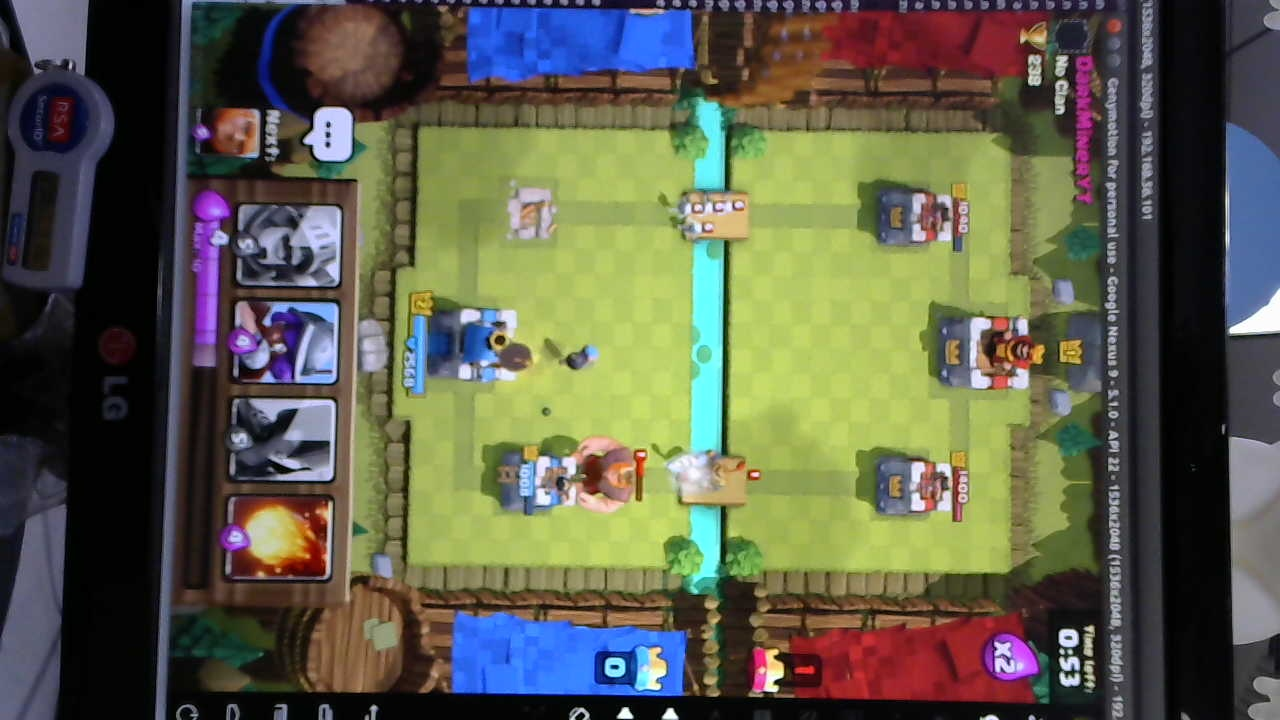arena: (497, 447, 583, 516)
bomb: (553, 337, 605, 377)
darena: (503, 181, 562, 249)
earena: (874, 184, 959, 250), (873, 453, 953, 522)
eking: (940, 312, 1039, 396)
giant: (578, 432, 638, 517)
king: (422, 303, 520, 381)
prince: (666, 446, 747, 491)
skeleton: (666, 195, 749, 240)
